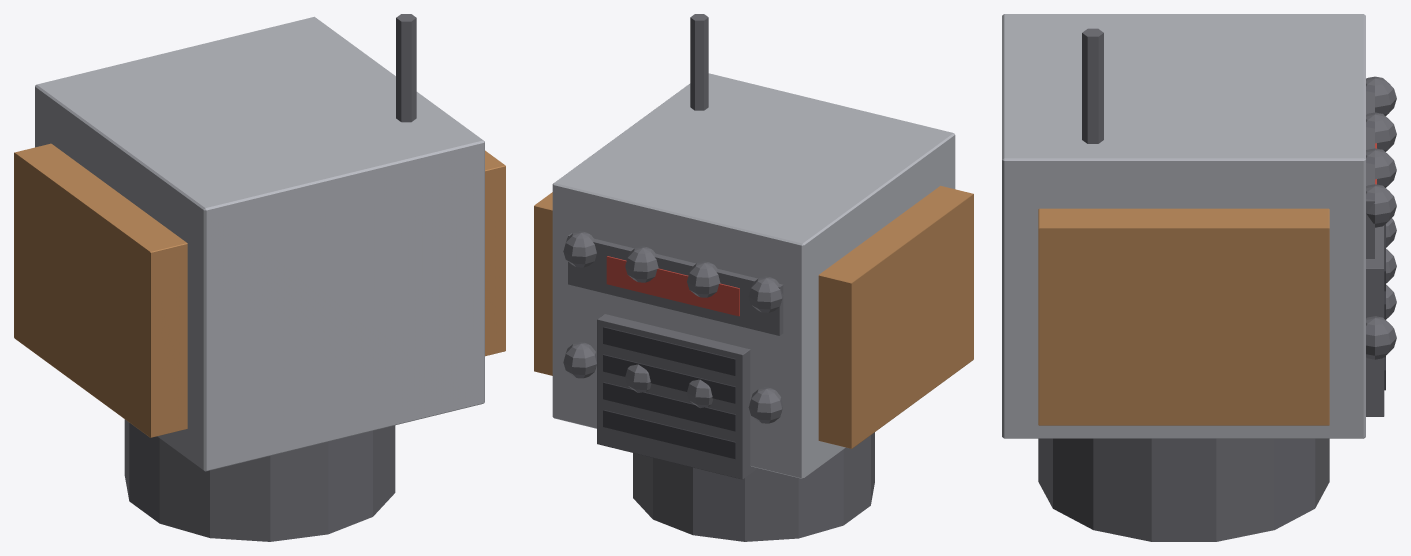
Rendered from scrap-crown.glb.
The picture shows the model from 3 angles, left to right: view 1: azimuth 30°, elevation 25°; view 2: azimuth 150°, elevation 25°; view 3: azimuth 270°, elevation 25°; orthographic projection. The views are drawn at different scales.
Parts seen in each view (by area): view 1: cranium, plate_r, neck, plate_l, ant; view 2: cranium, plate_r, neck, grill, opticband, plate_l, optic, slat3, slat0, slat1, ant, slat2 (+8 smaller); view 3: cranium, plate_l, neck, grill, ant, rivet, opticband, rivet.004, rivet.001, rivet.002, rivet.003.
Boxes of the visible parts, bbox=[...] form: cranium: bbox=[35, 16, 484, 471]; plate_r: bbox=[14, 143, 187, 437]; neck: bbox=[124, 419, 395, 541]; plate_l: bbox=[485, 150, 505, 356]; ant: bbox=[396, 14, 416, 122]; cranium: bbox=[552, 73, 955, 478]; plate_r: bbox=[818, 185, 973, 448]; neck: bbox=[633, 432, 874, 541]; grill: bbox=[597, 314, 757, 479]; opticband: bbox=[568, 233, 783, 335]; plate_l: bbox=[534, 192, 552, 375]; optic: bbox=[606, 256, 739, 316]; slat3: bbox=[603, 327, 735, 375]; slat0: bbox=[603, 410, 735, 458]; slat1: bbox=[603, 382, 735, 431]; ant: bbox=[690, 14, 708, 110]; slat2: bbox=[603, 354, 735, 403]; cranium: bbox=[1002, 14, 1365, 438]; plate_l: bbox=[1038, 208, 1329, 425]; neck: bbox=[1038, 438, 1329, 541]; grill: bbox=[1366, 225, 1384, 416]; ant: bbox=[1082, 28, 1103, 143]; rivet: bbox=[1366, 316, 1396, 359]; opticband: bbox=[1366, 78, 1374, 258]; rivet.004: bbox=[1366, 184, 1396, 227]; rivet.001: bbox=[1366, 76, 1396, 115]; rivet.002: bbox=[1366, 112, 1396, 151]; rivet.003: bbox=[1366, 148, 1396, 187].
Size of the model in its own units: 0.24 by 0.305 by 0.217.
